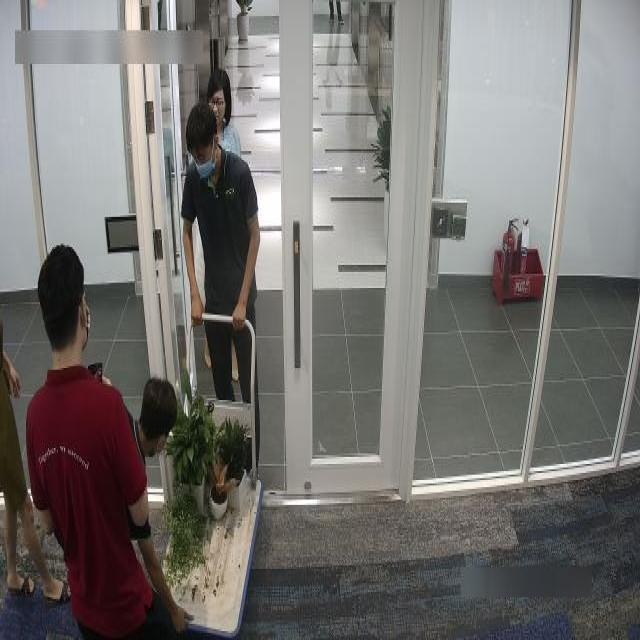bare_hand: (168, 603, 198, 640), (233, 281, 253, 334), (187, 281, 210, 324), (7, 356, 26, 402)
